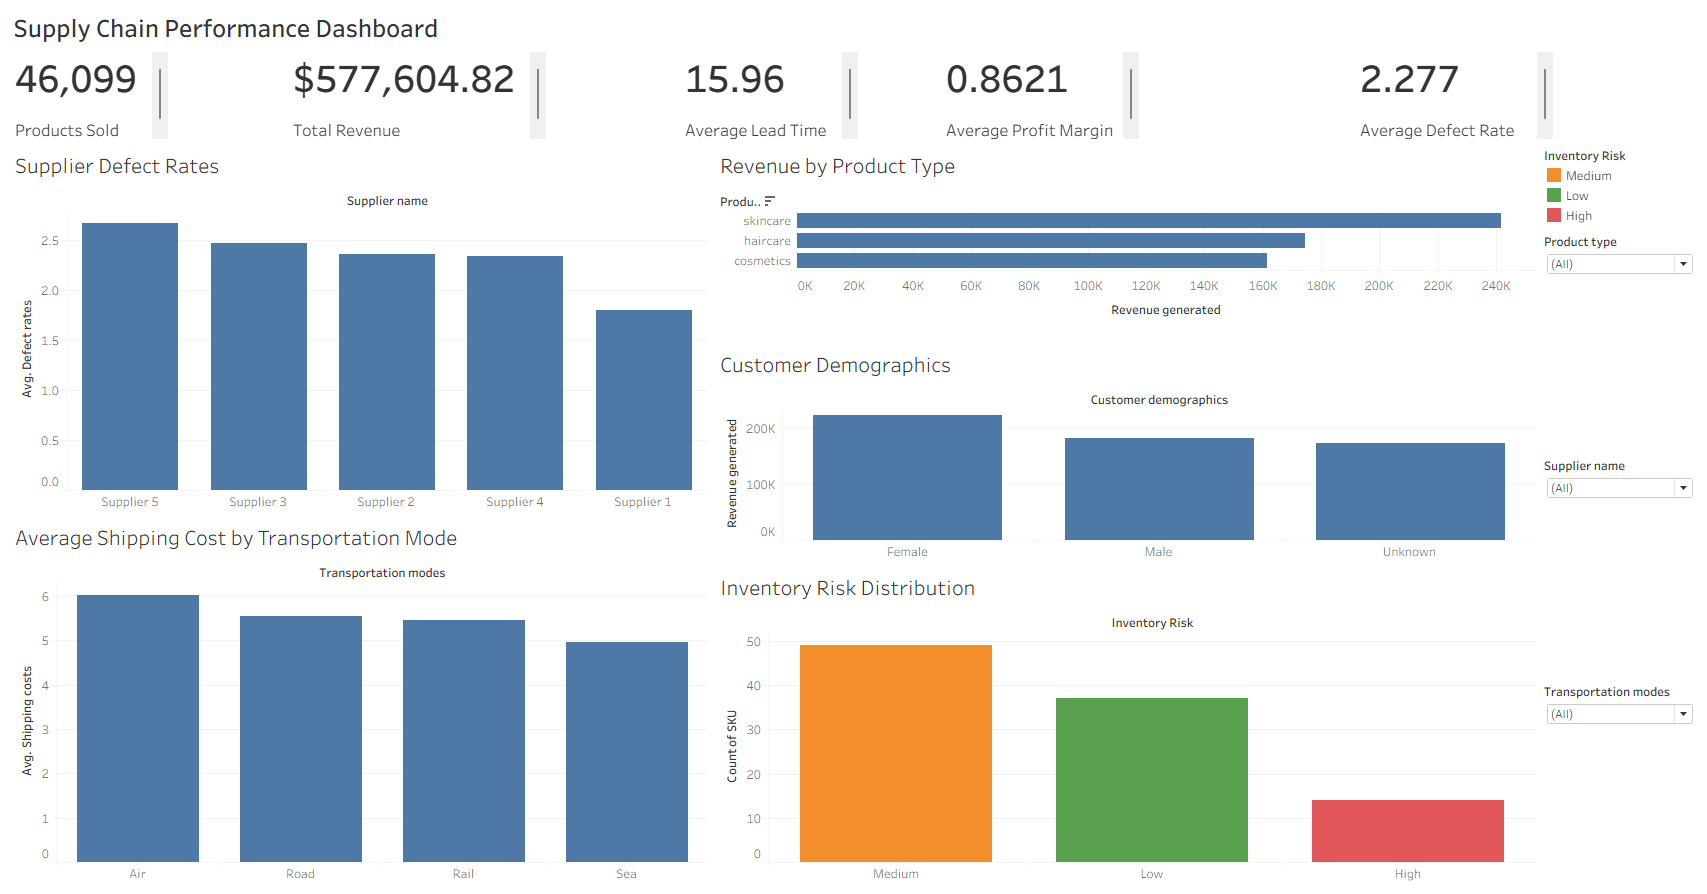

This screenshot's page, from the dashboard's own definition file:
{"tool":"tableau","page":{"name":"Supply Chain Performance Dashboard","canvas":[1000,1000],"units":"permille","ordinal":0},"visuals":[{"type":"title","box":[4.7,8.9,990.6,45.8]},{"type":"worksheet","title":"KPI2-Products Sold","mark":"Automatic","box":[4.7,54.7,162.7,106.4]},{"type":"worksheet","title":"KPI-Total Revenue","mark":"Automatic","box":[167.3,54.7,229.4,106.4]},{"type":"worksheet","title":"KPI3-Average Lead Time","mark":"Automatic","box":[396.7,54.7,108.2,106.4]},{"type":"worksheet","title":"KPI4-Average Profit Margin","mark":"Automatic","box":[549.4,54.7,242.2,106.4]},{"type":"worksheet","title":"KPI5-Average Defect Rate","mark":"Automatic","box":[791.7,54.7,152.7,106.4]},{"type":"worksheet","title":"Supplier Performance","mark":"Automatic","rows":["Defect rates"],"cols":["Supplier name"],"box":[4.7,161.1,412.5,415]},{"type":"worksheet","title":"Revenue by Product Type","mark":"Automatic","rows":["Product type"],"cols":["Revenue generated"],"box":[417.2,161.1,484.5,221.9]},{"type":"legend","title":"Inventory Risk","param":"[federated.0efo4z00gmxyfs1cbv5ne1xbdc4q].[none:inventory risk:nk]","box":[901.7,161.1,93.6,96]},{"type":"filter","title":"Revenue by Product Type","param":"[federated.0efo4z00gmxyfs1cbv5ne1xbdc4q].[none:Product type:nk]","box":[901.7,257.1,93.6,250]},{"type":"worksheet","title":"Customer Demographics","mark":"Automatic","rows":["Revenue generated"],"cols":["Customer demographics"],"box":[417.2,382.9,484.5,248.9]},{"type":"filter","title":"Supplier Performance","param":"[federated.0efo4z00gmxyfs1cbv5ne1xbdc4q].[none:Supplier name:nk]","box":[901.7,507.1,93.6,252.2]},{"type":"worksheet","title":"Transportation Analysis","mark":"Automatic","rows":["Shipping costs"],"cols":["Transportation modes"],"box":[4.7,576.1,412.5,415]},{"type":"worksheet","title":"Inventory Risk","mark":"Automatic","rows":["SKU"],"cols":["inventory risk"],"box":[417.2,631.8,484.5,359.2]},{"type":"filter","title":"Transportation Analysis","param":"[federated.0efo4z00gmxyfs1cbv5ne1xbdc4q].[none:Transportation modes:nk]","box":[901.7,759.3,93.6,58]}]}

Visuals, with their boxes on the dashboard's canvas, which has no fixed pixel size, in thousandths of its width and height (x1, y1, x2, y2). These are canvas units, not pixel positions in the 1707x894 screenshot, which may show the page scaled, cropped or inside an application window:
title: [left=5, top=9, right=995, bottom=55]
"KPI2-Products Sold" worksheet: [left=5, top=55, right=167, bottom=161]
"KPI-Total Revenue" worksheet: [left=167, top=55, right=397, bottom=161]
"KPI3-Average Lead Time" worksheet: [left=397, top=55, right=505, bottom=161]
"KPI4-Average Profit Margin" worksheet: [left=549, top=55, right=792, bottom=161]
"KPI5-Average Defect Rate" worksheet: [left=792, top=55, right=944, bottom=161]
"Supplier Performance" worksheet: [left=5, top=161, right=417, bottom=576]
"Revenue by Product Type" worksheet: [left=417, top=161, right=902, bottom=383]
"Inventory Risk" legend: [left=902, top=161, right=995, bottom=257]
"Revenue by Product Type" filter: [left=902, top=257, right=995, bottom=507]
"Customer Demographics" worksheet: [left=417, top=383, right=902, bottom=632]
"Supplier Performance" filter: [left=902, top=507, right=995, bottom=759]
"Transportation Analysis" worksheet: [left=5, top=576, right=417, bottom=991]
"Inventory Risk" worksheet: [left=417, top=632, right=902, bottom=991]
"Transportation Analysis" filter: [left=902, top=759, right=995, bottom=817]
